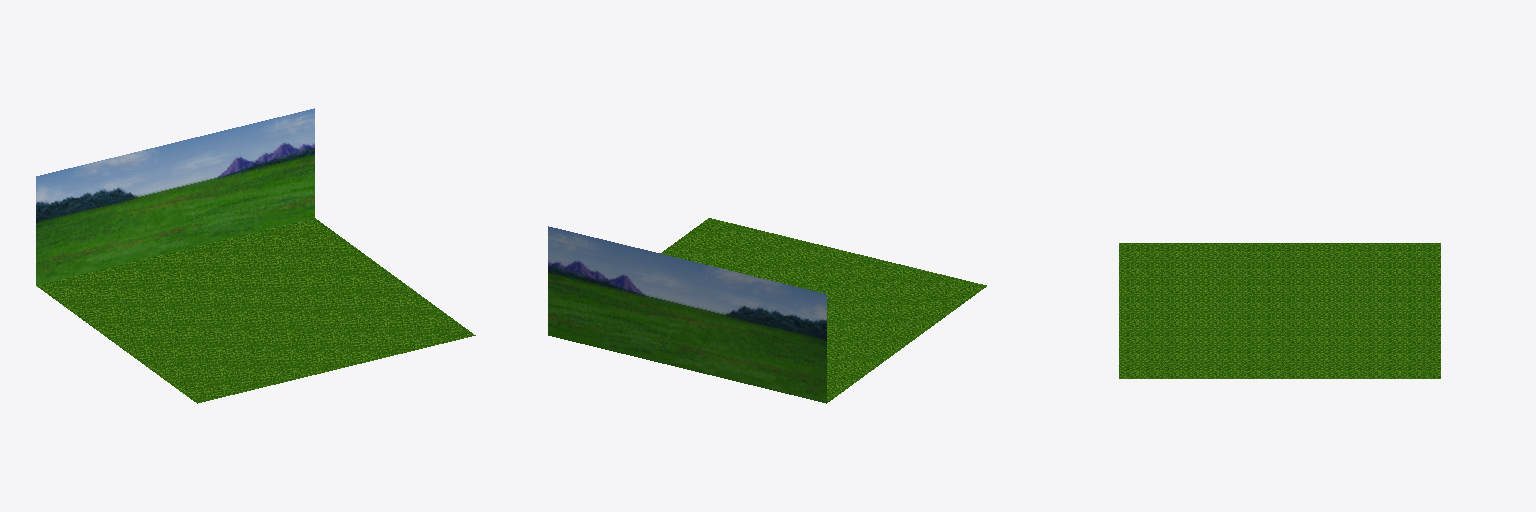
The picture shows the model from 3 angles: view 1: azimuth 30°, elevation 25°; view 2: azimuth 150°, elevation 25°; view 3: azimuth 270°, elevation 25°; orthographic projection.
Visible parts, largest first — view 1: Plane, Material2; view 2: Material2, Plane; view 3: Plane.
Part boxes in pixels (x1,y1,x2,y2): Plane: (37, 218, 475, 403); Material2: (36, 108, 314, 285); Material2: (548, 226, 826, 403); Plane: (660, 218, 986, 402); Plane: (1119, 243, 1440, 378).
Size of the model in its own units: 256 by 96 by 256.
Materials: 2 (2 with a texture image).